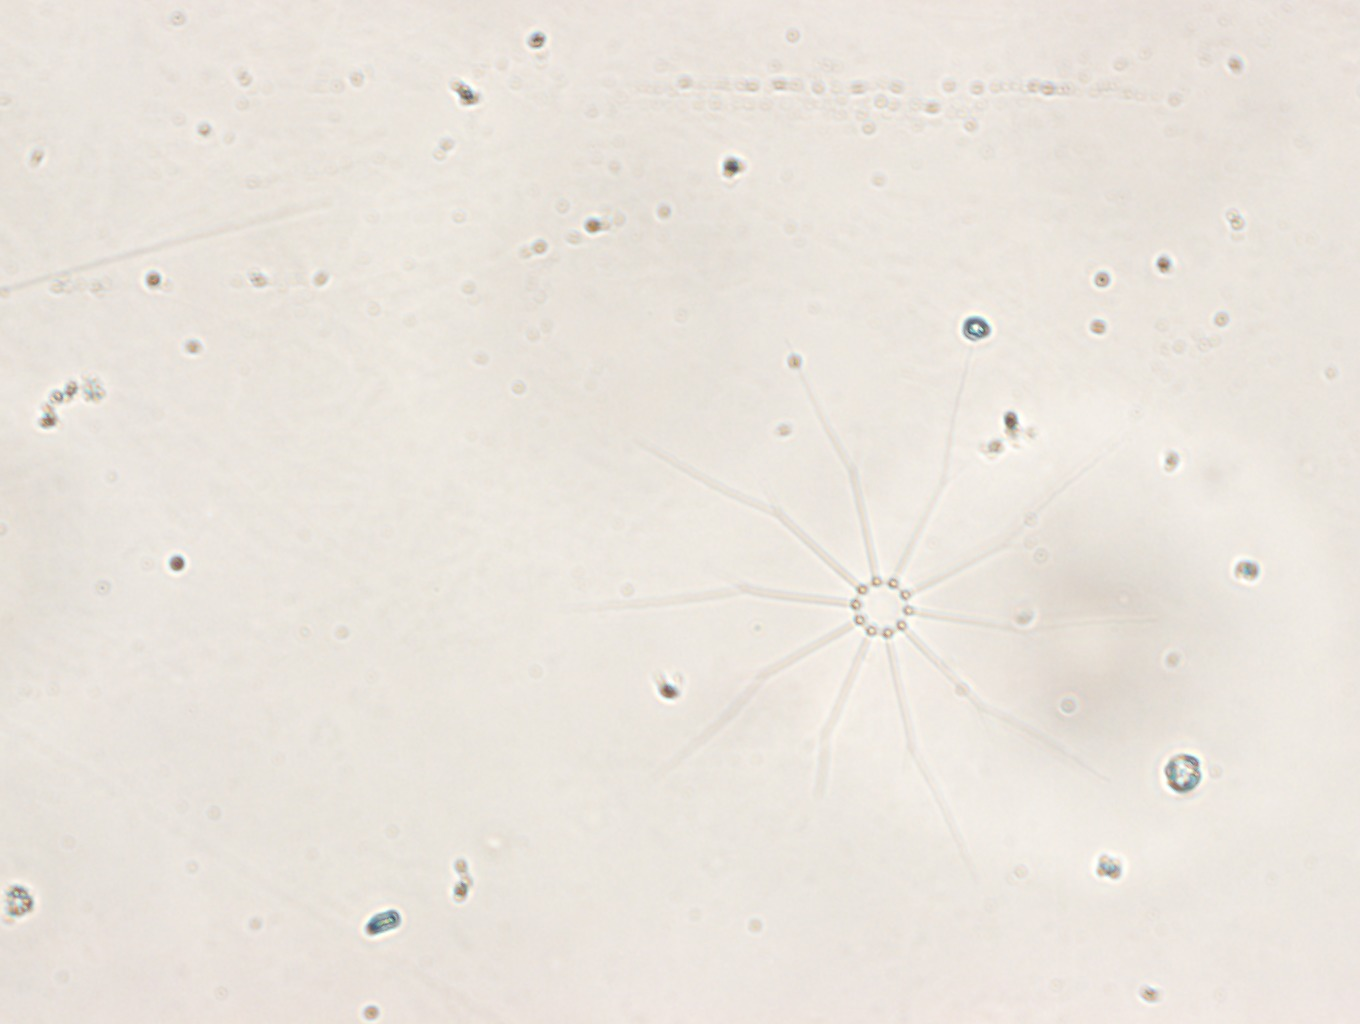bacteriastrum: (591, 327, 1156, 898)
